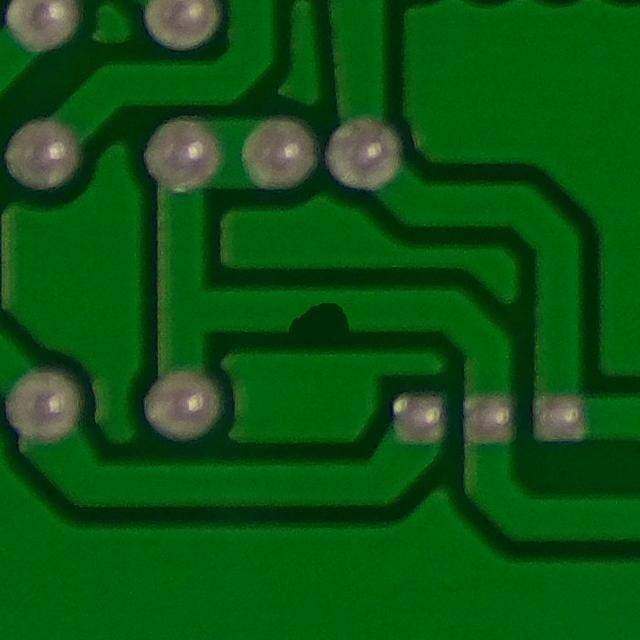mouse_bite: (269, 288, 372, 352)
